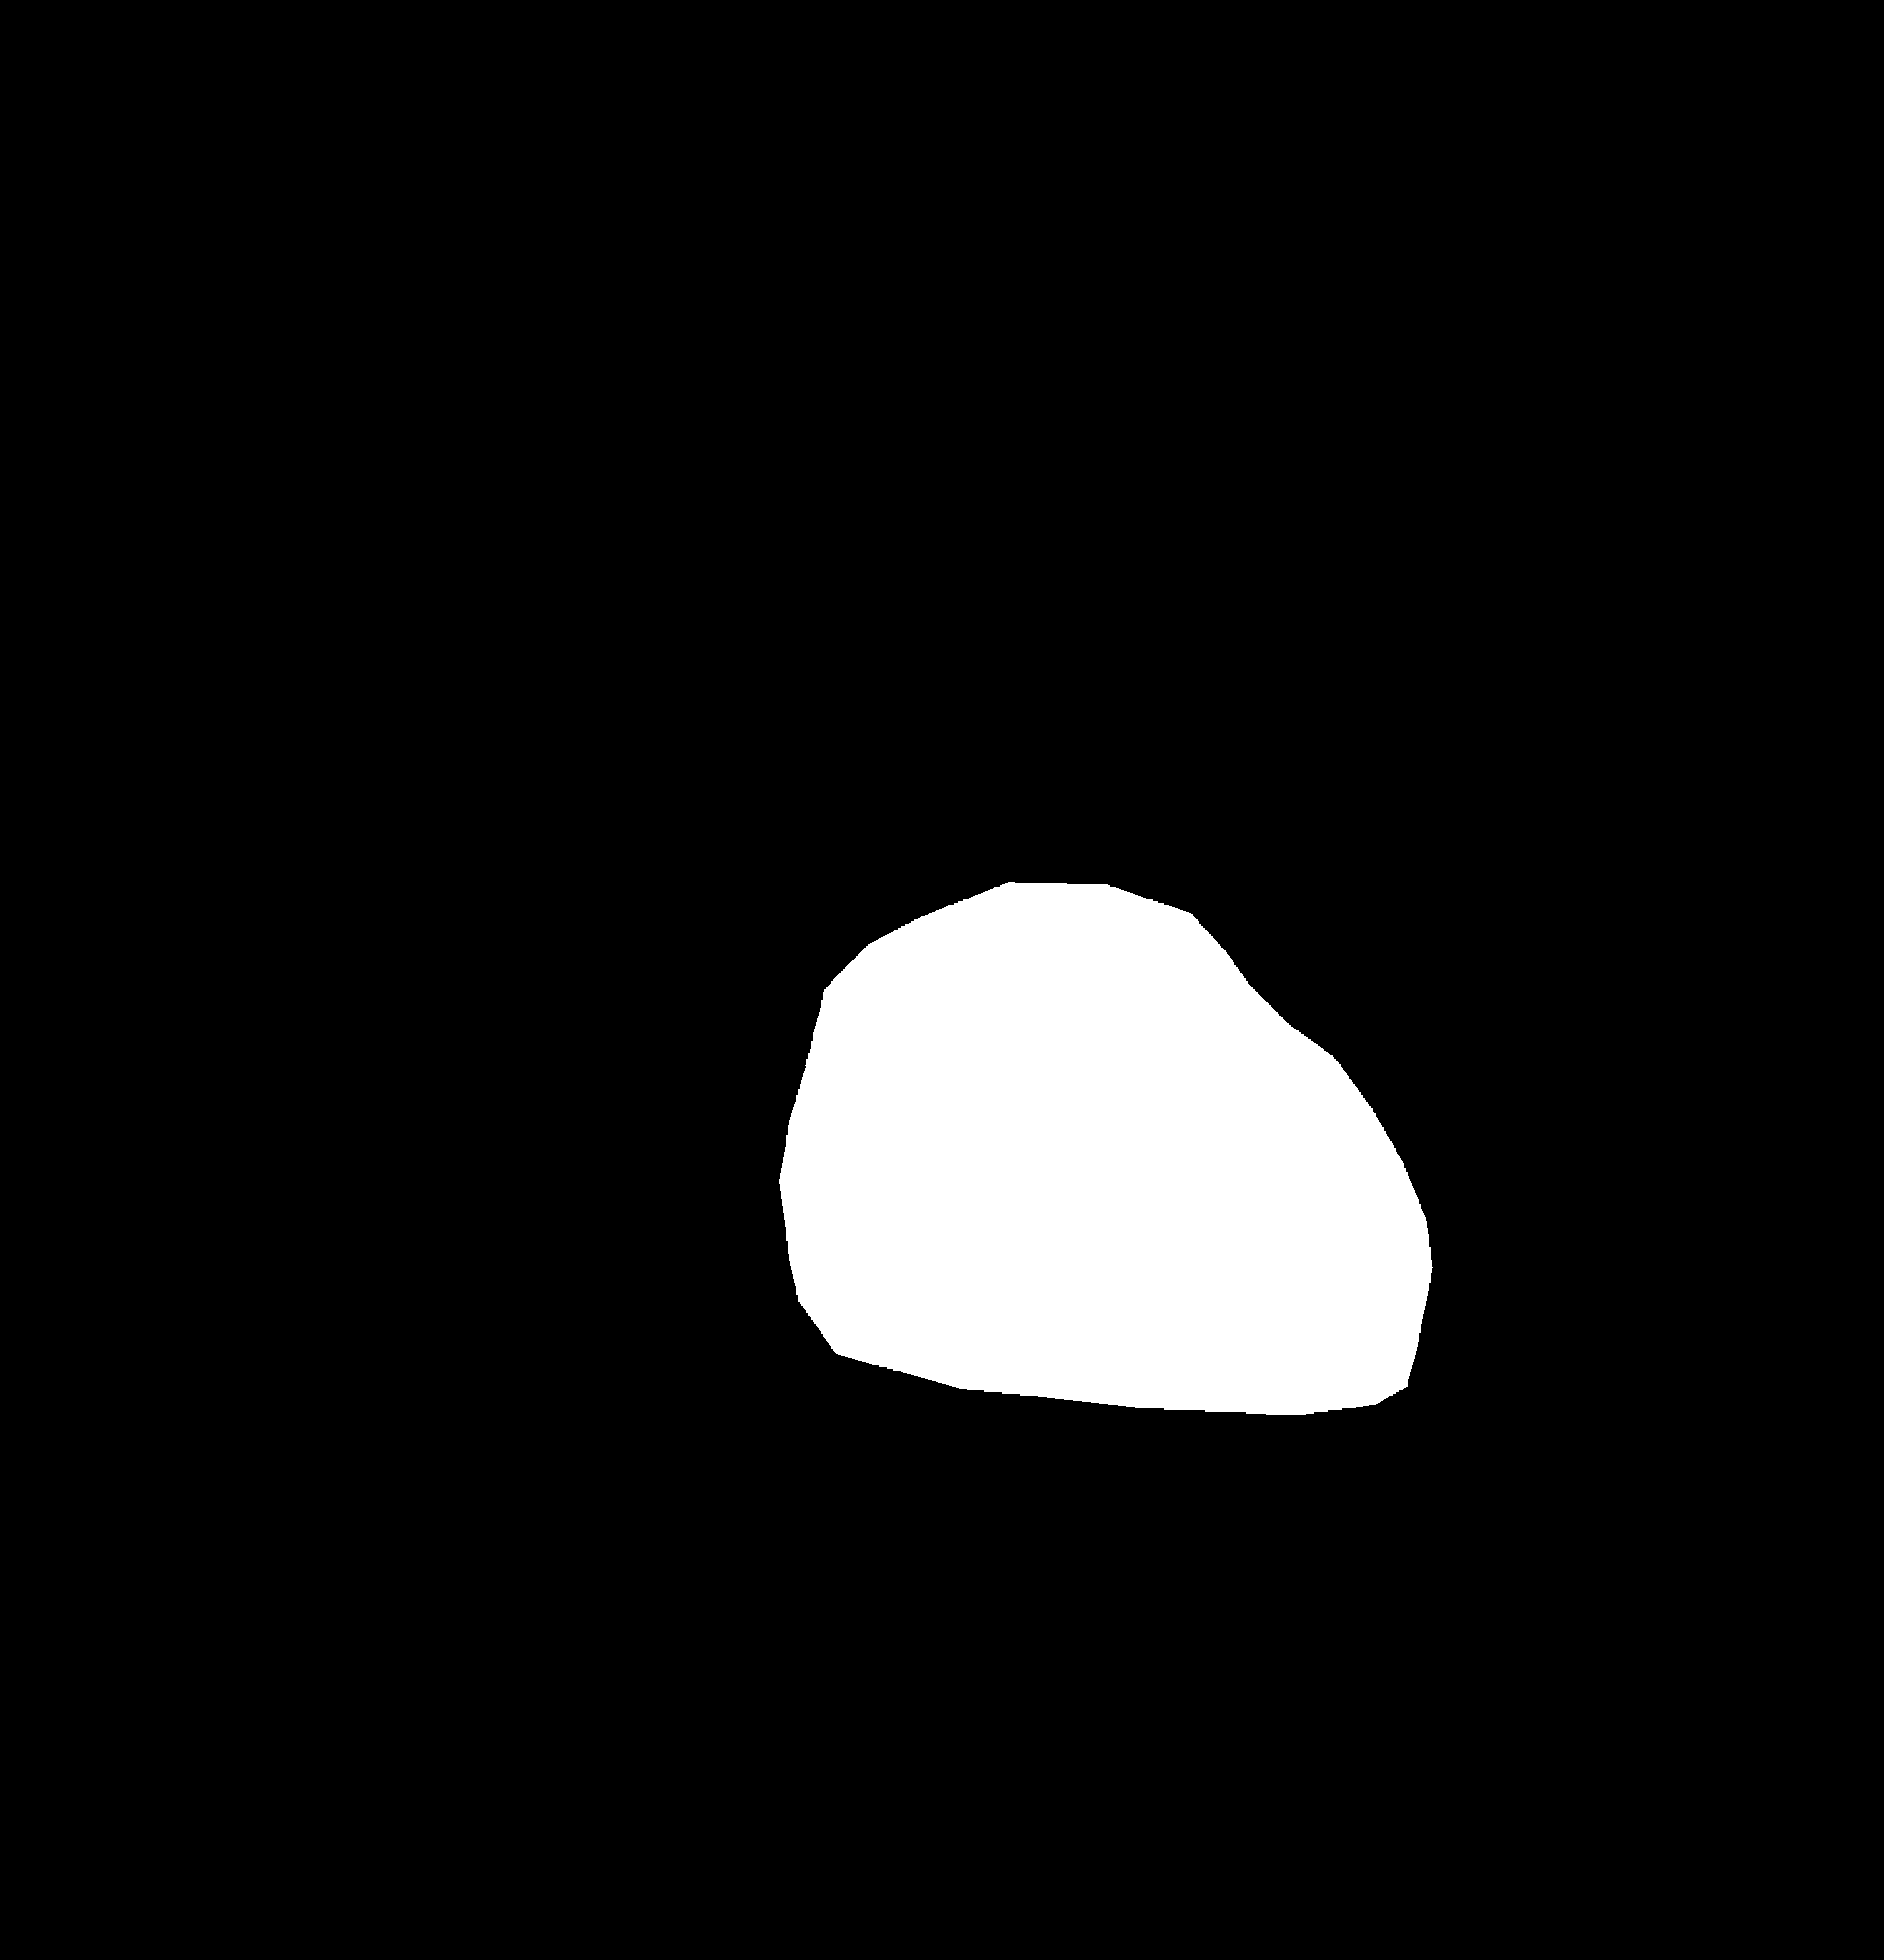heart: (784, 985, 1424, 1440)
left_lung: (229, 220, 911, 1543)
right_lung: (1032, 234, 1657, 1617)
